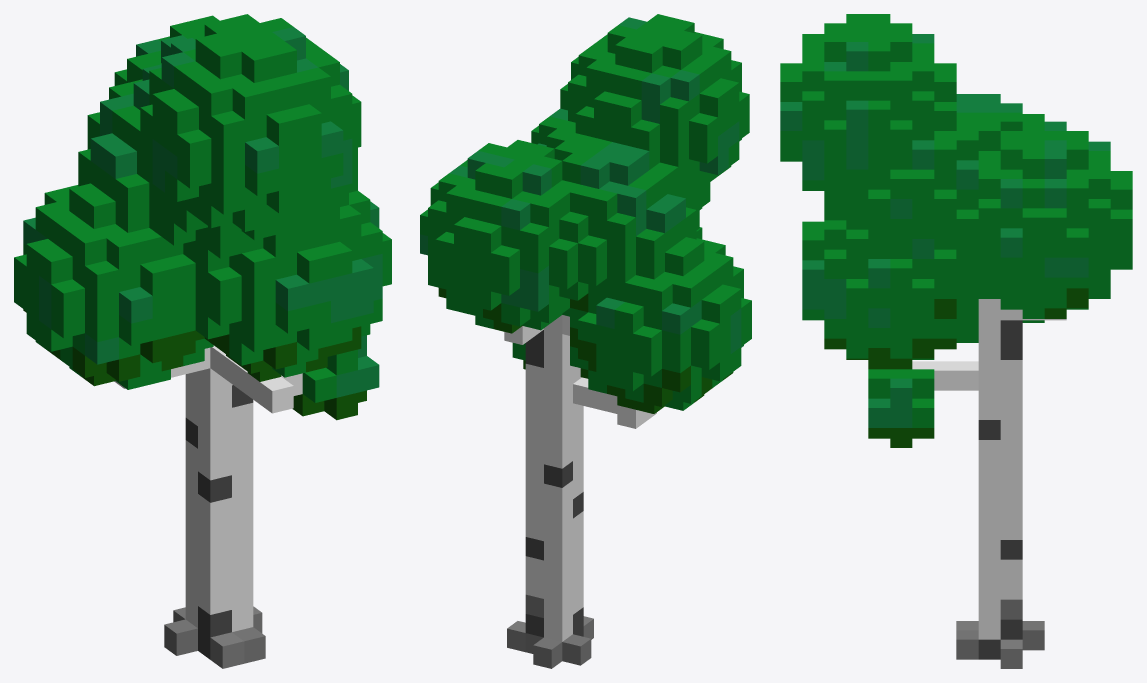
Rendered from tree2.fbx.
3 views of the same model, side by side, from view 1: azimuth 30°, elevation 25°; view 2: azimuth 150°, elevation 25°; view 3: azimuth 270°, elevation 25° (orthographic). The views are drawn at different scales.
Visible parts, largest first — view 1: Tree_2 (2); view 2: Tree_2 (2); view 3: Tree_2 (2).
Boxes of the visible parts, x1,y1,x2,y2 form: Tree_2 (2): (14, 14, 391, 668); Tree_2 (2): (420, 14, 751, 668); Tree_2 (2): (780, 14, 1132, 668).
Size of the model in its own units: 72.68 by 156 by 83.06.
